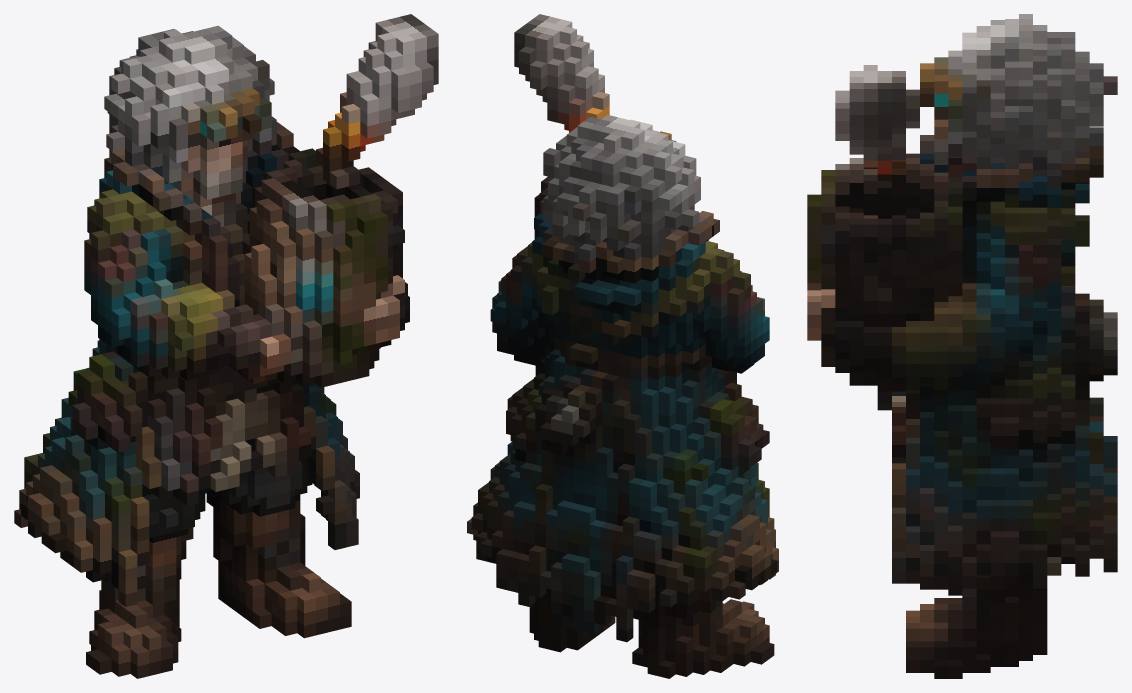
File: u_eclusier_fou.glb
3 renders of one model, left to right at view 1: azimuth 30°, elevation 25°; view 2: azimuth 150°, elevation 25°; view 3: azimuth 270°, elevation 25°, orthographic. The views are drawn at different scales.
Parts seen in each view (by area): view 1: eclusier_fou_body; view 2: eclusier_fou_body; view 3: eclusier_fou_body.
Part boxes in pixels (x1,y1,x2,y2): eclusier_fou_body: [14, 14, 438, 678]; eclusier_fou_body: [467, 14, 778, 678]; eclusier_fou_body: [807, 14, 1117, 678].
Size of the model in its own units: 0.6188 by 1.1 by 0.5042.
1 material, 1 textured.
